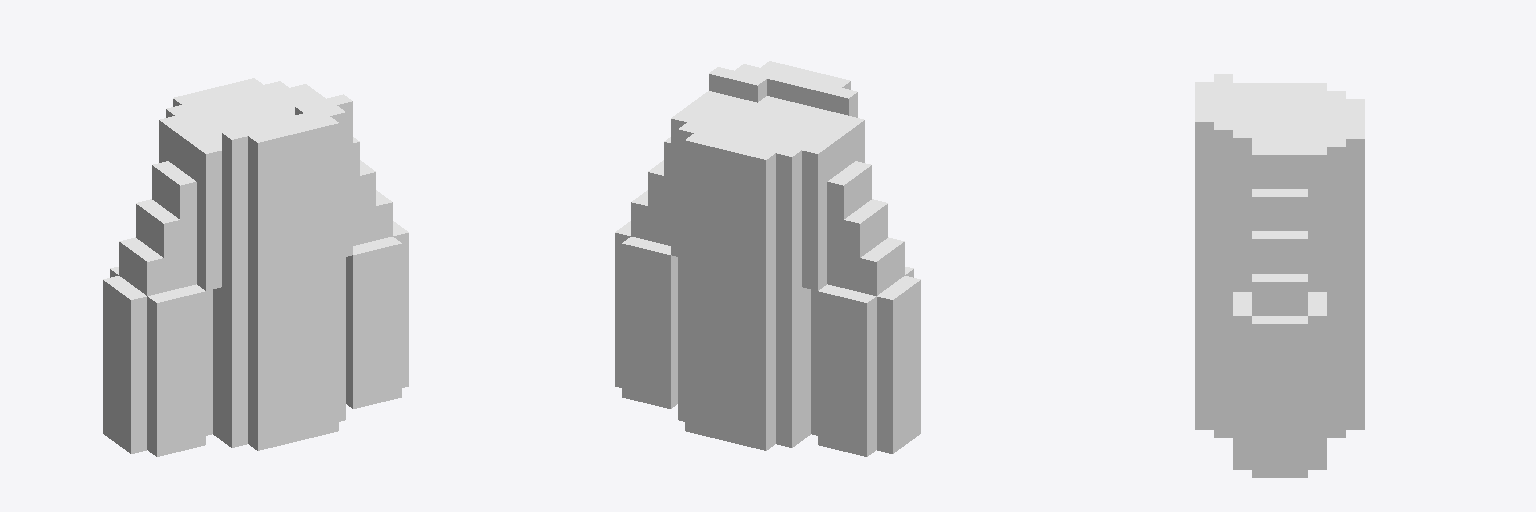
File: rocket_middile.obj
3 renders of one model, left to right at view 1: azimuth 30°, elevation 25°; view 2: azimuth 150°, elevation 25°; view 3: azimuth 270°, elevation 25°, orthographic.
Visible parts, largest first — view 1: object 1; view 2: object 1; view 3: object 1.
Boxes of the visible parts, x1,y1,x2,y2 form: object 1: [103, 78, 408, 456]; object 1: [615, 61, 920, 456]; object 1: [1195, 74, 1364, 477].
Size of the model in its own units: 1.7 by 1.8 by 0.9.